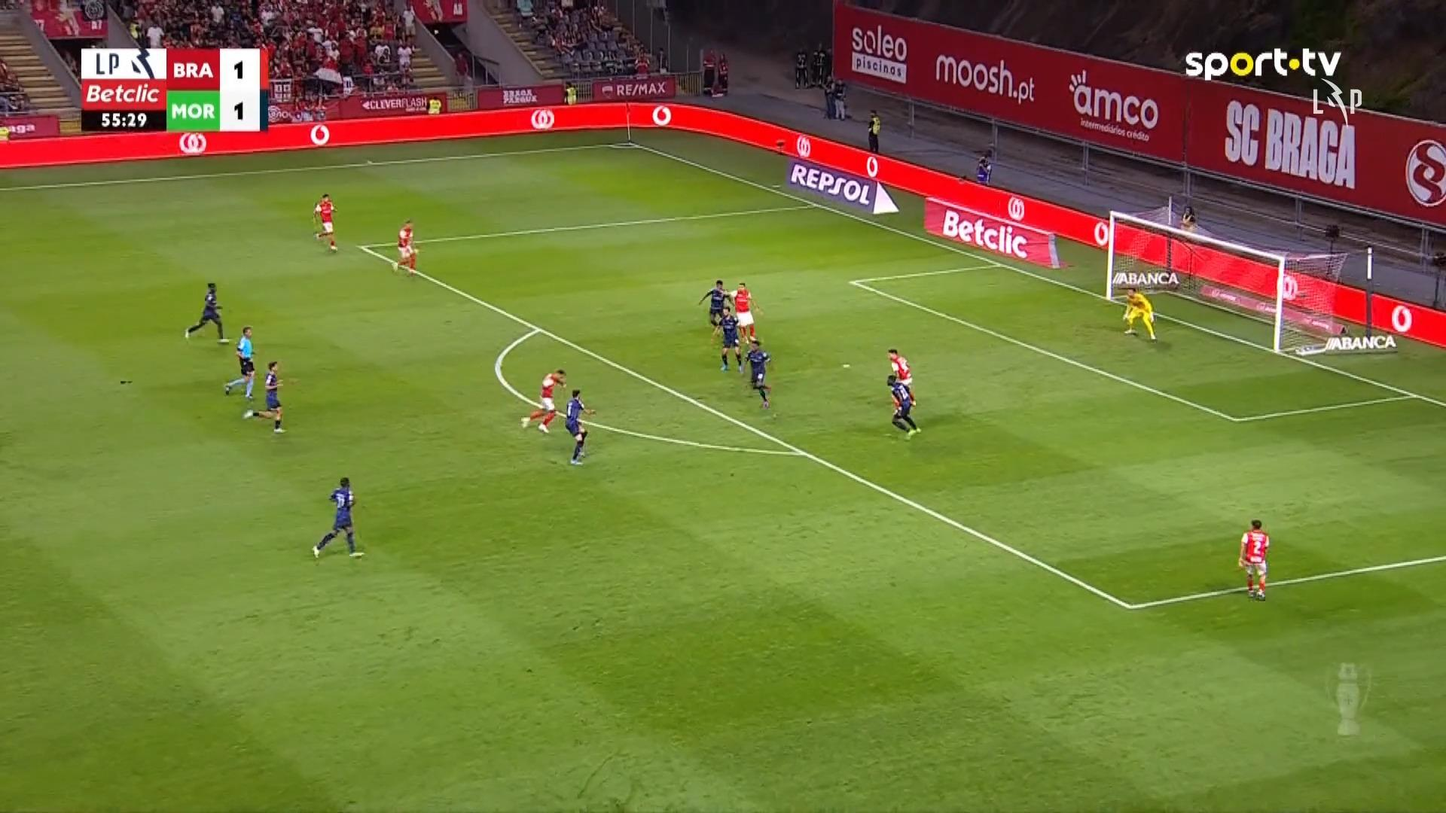ball: (243, 410, 253, 419)
goalkeeper: (1121, 286, 1157, 340)
player: (310, 477, 365, 559), (243, 359, 288, 433), (519, 368, 566, 434), (183, 281, 230, 343), (1237, 519, 1270, 601), (563, 388, 596, 464), (886, 373, 921, 439), (711, 305, 743, 373), (743, 337, 773, 409), (886, 347, 916, 413), (732, 280, 759, 343), (697, 279, 731, 327), (311, 193, 337, 252), (392, 219, 418, 275)
referee: (223, 324, 257, 399)
